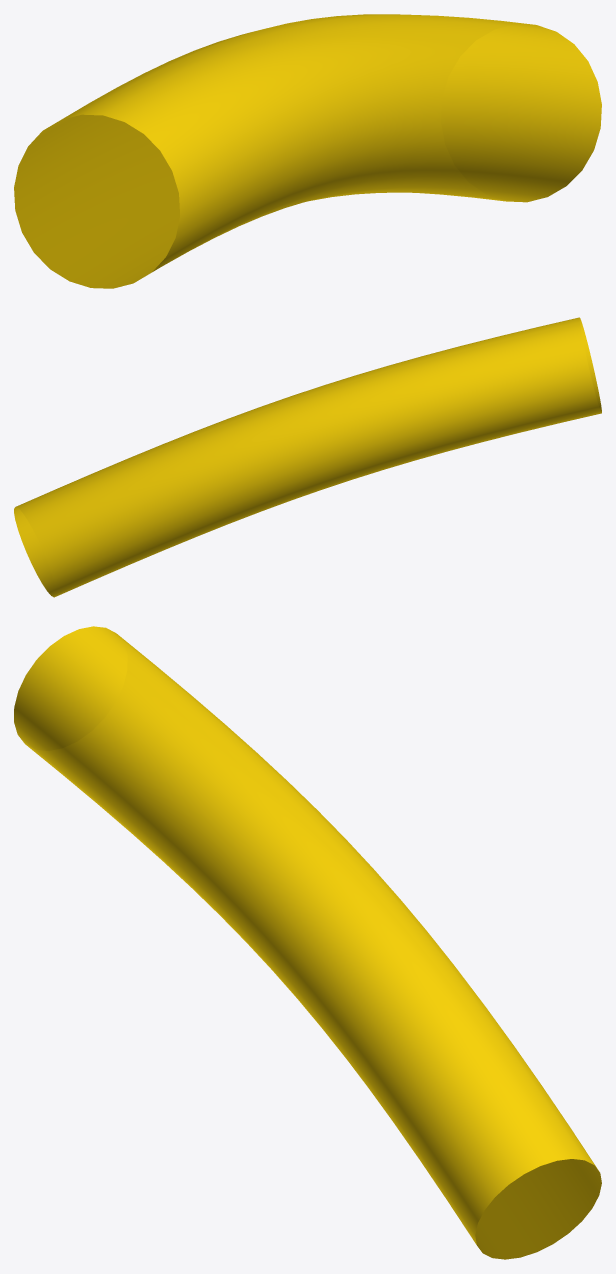
The model's file is Event_420094457_track_76.fbx.
The picture shows the model from 3 angles, top to bottom: view 1: azimuth 30°, elevation 25°; view 2: azimuth 150°, elevation 25°; view 3: azimuth 270°, elevation 25°; orthographic projection. The views are drawn at different scales.
Parts seen in each view (by area): view 1: Model; view 2: Model; view 3: Model.
Part boxes in pixels (x1,y1,x2,y2): Model: [14, 14, 601, 288]; Model: [14, 317, 601, 597]; Model: [14, 626, 601, 1259].
Size of the model in its own units: 0.2099 by 0.1116 by 0.1637.
